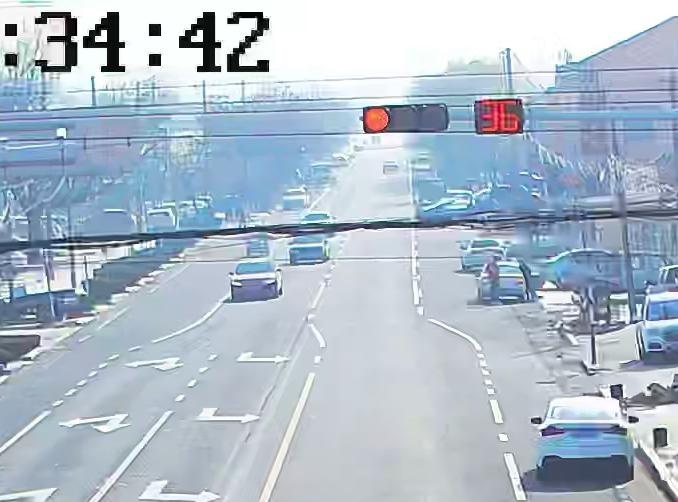red: (364, 105, 391, 131)
redtime: (478, 99, 522, 134)
